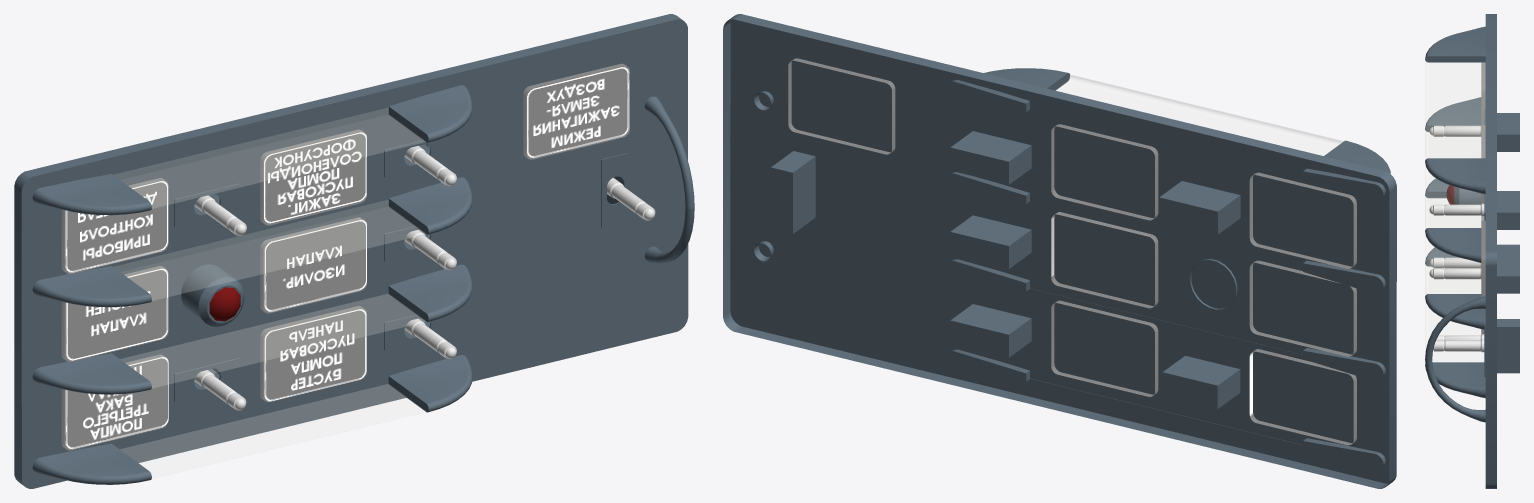
The model's file is MiG-15bis-Leftswitchpanel.gltf.
3 views of the same model, side by side, from view 1: azimuth 30°, elevation 25°; view 2: azimuth 150°, elevation 25°; view 3: azimuth 270°, elevation 25° (orthographic). The views are drawn at different scales.
Visible parts, largest first — view 1: LSP_Base, LSP_DGlass, IGNT_Message, LSP_LShield, IGNT_Message.001, IGNT_SForeplate, EBC_LBase, EBC_Switch, IGN_Switch, PUC_Switch, PUTT_Switch, EC_Switch (+2 smaller); view 2: LSP_Base, LSP_LShield, IGNT_Message, LSP_DGlass, IGNT_Message.001; view 3: LSP_LShield, LSP_DGlass, LSP_Base, IGN_Switch, IGNT_Switch, EBC_Switch, EC_Switch, IGNT_Message, PUTT_Switch, EBC_LBase, IGNT_Message.001, PUC_Switch (+2 smaller).
Boxes of the visible parts, left/top/right/bottom form: LSP_Base: left=14, top=14, right=688, bottom=488; LSP_DGlass: left=114, top=108, right=425, bottom=478; IGNT_Message: left=61, top=129, right=366, bottom=450; LSP_LShield: left=32, top=85, right=694, bottom=484; IGNT_Message.001: left=523, top=63, right=629, bottom=159; IGNT_SForeplate: left=174, top=135, right=627, bottom=401; EBC_LBase: left=181, top=264, right=244, bottom=326; EBC_Switch: left=404, top=230, right=456, bottom=270; IGN_Switch: left=404, top=145, right=456, bottom=186; PUC_Switch: left=404, top=318, right=456, bottom=359; PUTT_Switch: left=194, top=370, right=246, bottom=410; EC_Switch: left=194, top=195, right=246, bottom=235; LSP_Base: left=723, top=14, right=1396, bottom=488; LSP_LShield: left=754, top=68, right=1390, bottom=471; IGNT_Message: left=1051, top=124, right=1356, bottom=445; LSP_DGlass: left=1056, top=74, right=1343, bottom=155; IGNT_Message.001: left=788, top=58, right=895, bottom=154; LSP_LShield: left=1425, top=26, right=1485, bottom=422; LSP_DGlass: left=1425, top=61, right=1484, bottom=361; LSP_Base: left=1485, top=14, right=1519, bottom=488; IGN_Switch: left=1429, top=203, right=1484, bottom=216; IGNT_Switch: left=1433, top=339, right=1484, bottom=352; EBC_Switch: left=1429, top=268, right=1481, bottom=279; EC_Switch: left=1429, top=125, right=1481, bottom=136; IGNT_Message: left=1481, top=62, right=1485, bottom=334; PUTT_Switch: left=1429, top=257, right=1481, bottom=268; EBC_LBase: left=1454, top=186, right=1481, bottom=204; IGNT_Message.001: left=1481, top=220, right=1485, bottom=297; PUC_Switch: left=1436, top=334, right=1484, bottom=340.
Size of the model in its own units: 0.2386 by 0.1069 by 0.0389.
Materials: 7 (2 with a texture image).
